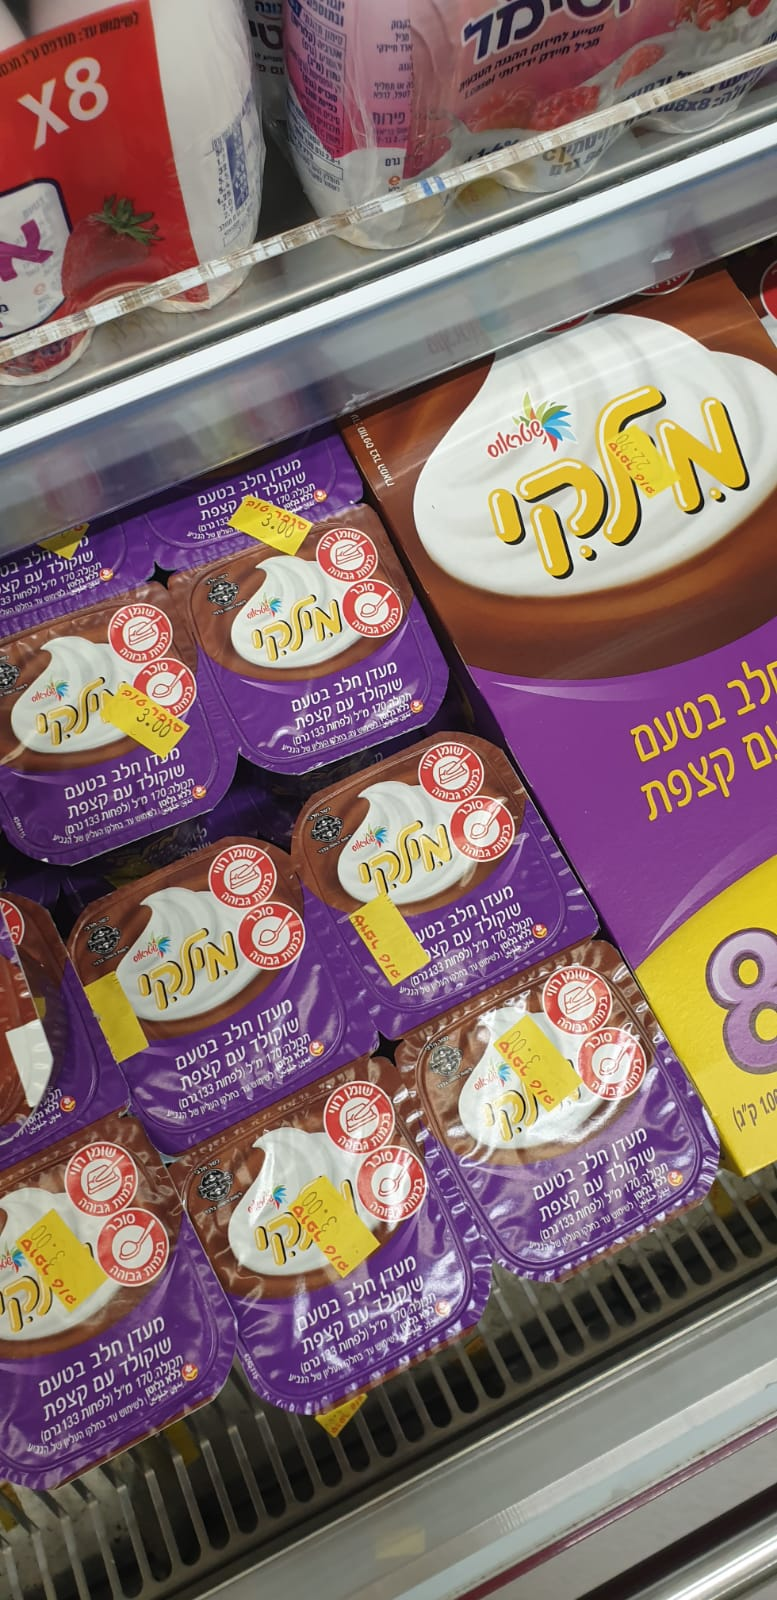fat: (322, 1080, 395, 1156), (65, 1141, 139, 1215), (542, 965, 614, 1036), (207, 843, 277, 913), (417, 741, 485, 803), (109, 601, 175, 665), (317, 526, 380, 581)
sugar: (355, 1146, 429, 1224), (97, 1206, 169, 1285), (577, 1028, 645, 1100), (239, 903, 305, 971), (132, 658, 197, 718), (340, 580, 405, 640), (450, 800, 514, 860)
